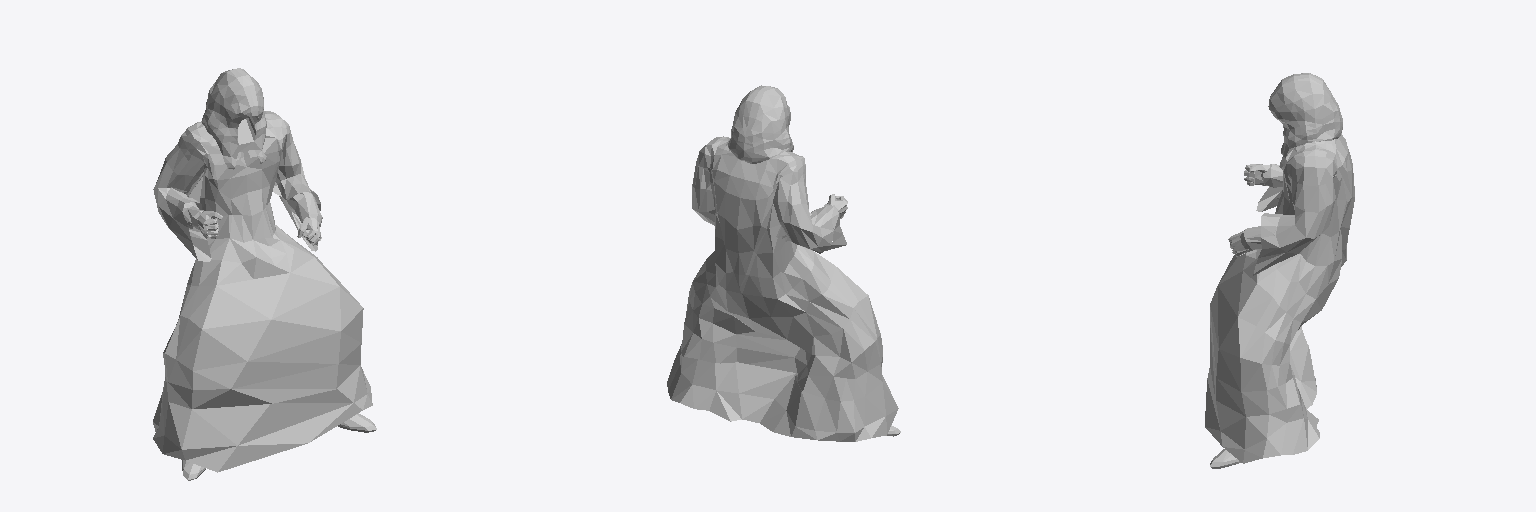
The model's file is Rider_Animate_Grab_Glide_33.obj.
The picture shows the model from 3 angles: view 1: azimuth 30°, elevation 25°; view 2: azimuth 150°, elevation 25°; view 3: azimuth 270°, elevation 25°; orthographic projection.
Visible parts, largest first — view 1: dm_nazgulrobe_ride_241108; view 2: dm_nazgulrobe_ride_241108; view 3: dm_nazgulrobe_ride_241108.
Boxes of the visible parts, <box> form: dm_nazgulrobe_ride_241108: <box>153,68,376,480</box>; dm_nazgulrobe_ride_241108: <box>667,85,900,441</box>; dm_nazgulrobe_ride_241108: <box>1205,73,1354,468</box>.
Bounding box in the file's own units: 0.4139 × 0.6637 × 0.2542.